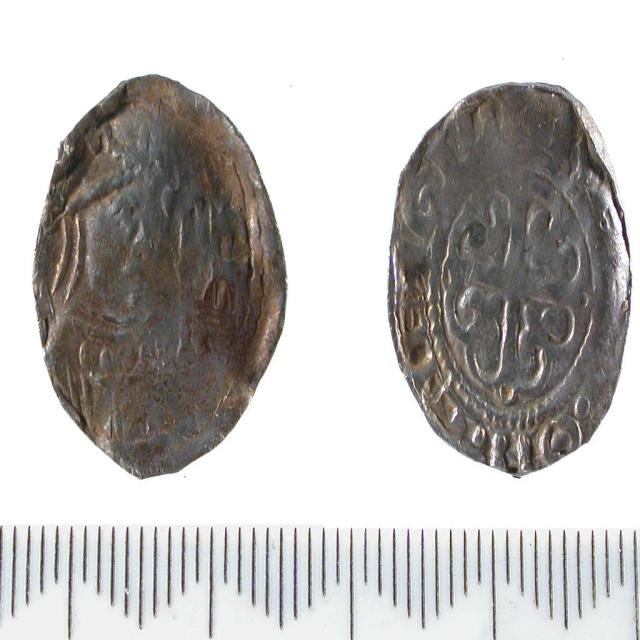Coin: (32, 68, 291, 479), (390, 76, 635, 474)
